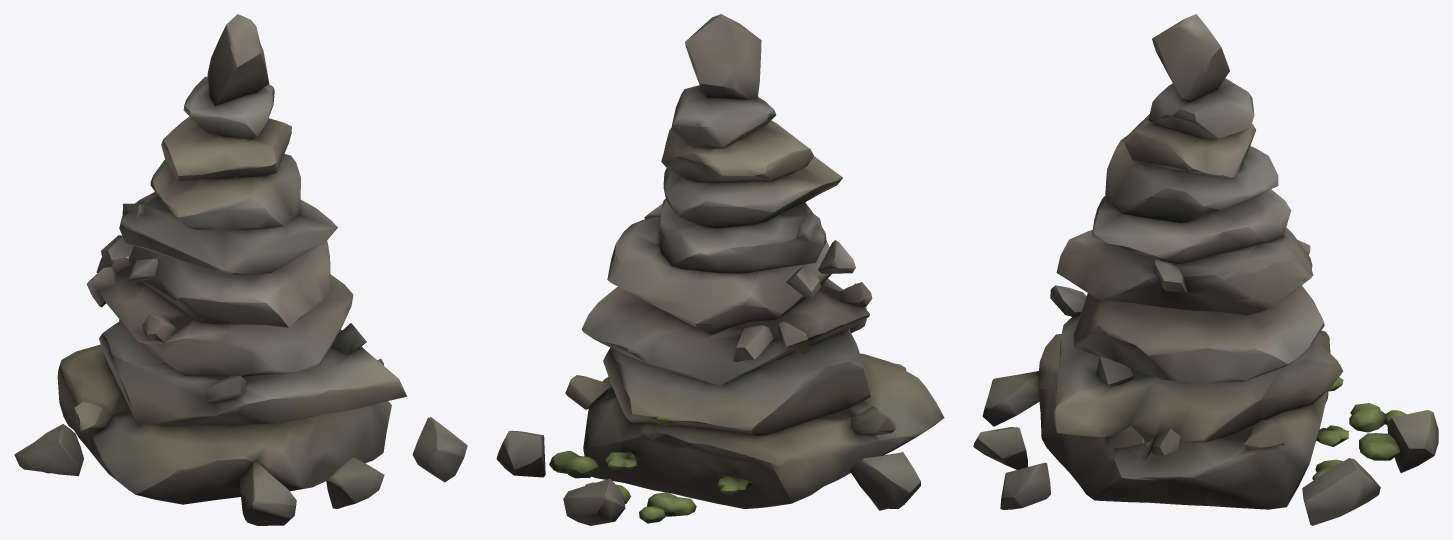
File: lm_cairn.glb
3 views of the same model, side by side, from view 1: azimuth 30°, elevation 25°; view 2: azimuth 150°, elevation 25°; view 3: azimuth 270°, elevation 25° (orthographic). The views are drawn at different scales.
Visible parts, largest first — view 1: lm_cairn_LOD0; view 2: lm_cairn_LOD0; view 3: lm_cairn_LOD0.
Part boxes in pixels (left/top/right/bottom): lm_cairn_LOD0: left=14, top=14, right=467, bottom=525; lm_cairn_LOD0: left=496, top=14, right=944, bottom=525; lm_cairn_LOD0: left=973, top=14, right=1438, bottom=525.
Size of what is drawn, in the model's own units: 1.98 by 2.31 by 2.15.
